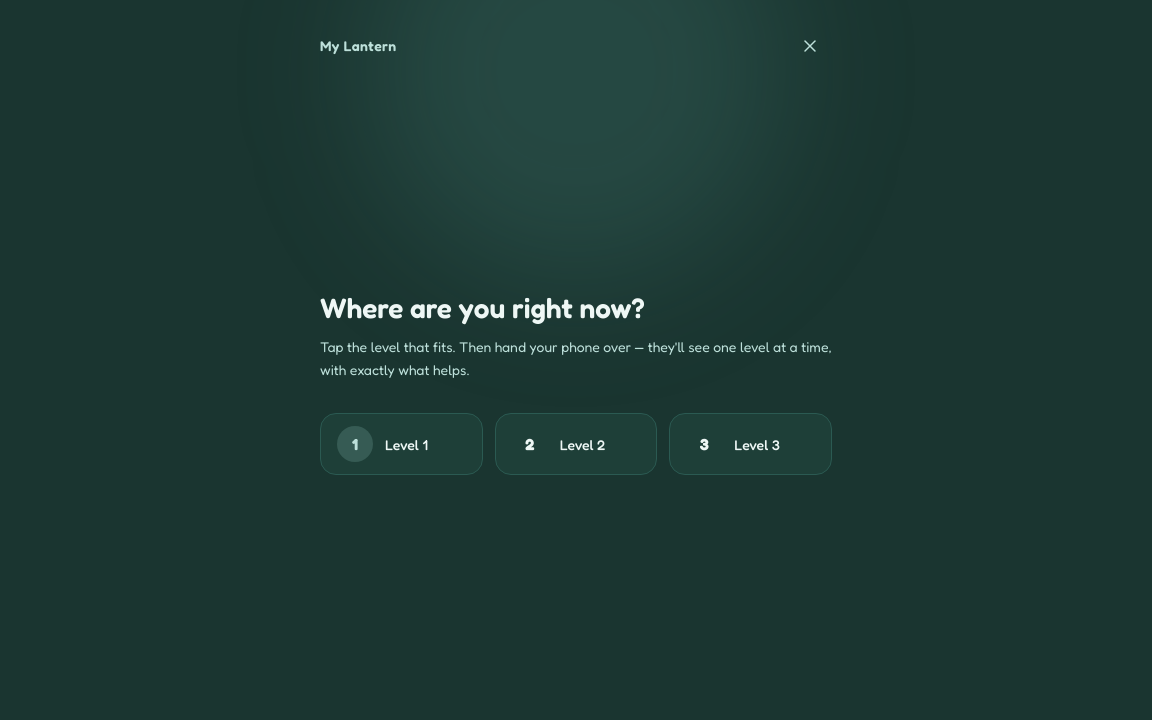
Test: PresentMode › tapping a level opens present phase with its content
Click the button "2 Level 2" at (576, 444), box top-left (495, 413), bottom-right (657, 475)
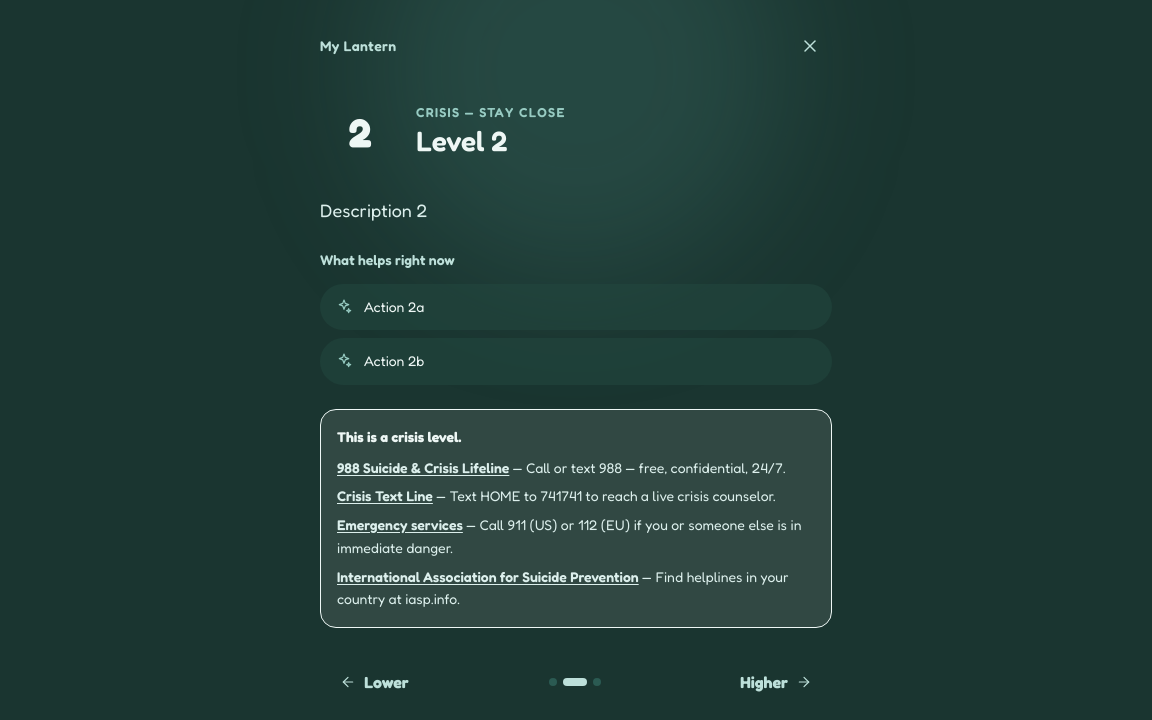
Now the text "Description 2" is shown, box top-left (320, 199), bottom-right (427, 221)
Now the list item "Action 2a" is shown, box top-left (320, 284), bottom-right (832, 330)
Now the list item "Action 2b" is shown, box top-left (320, 338), bottom-right (832, 385)
